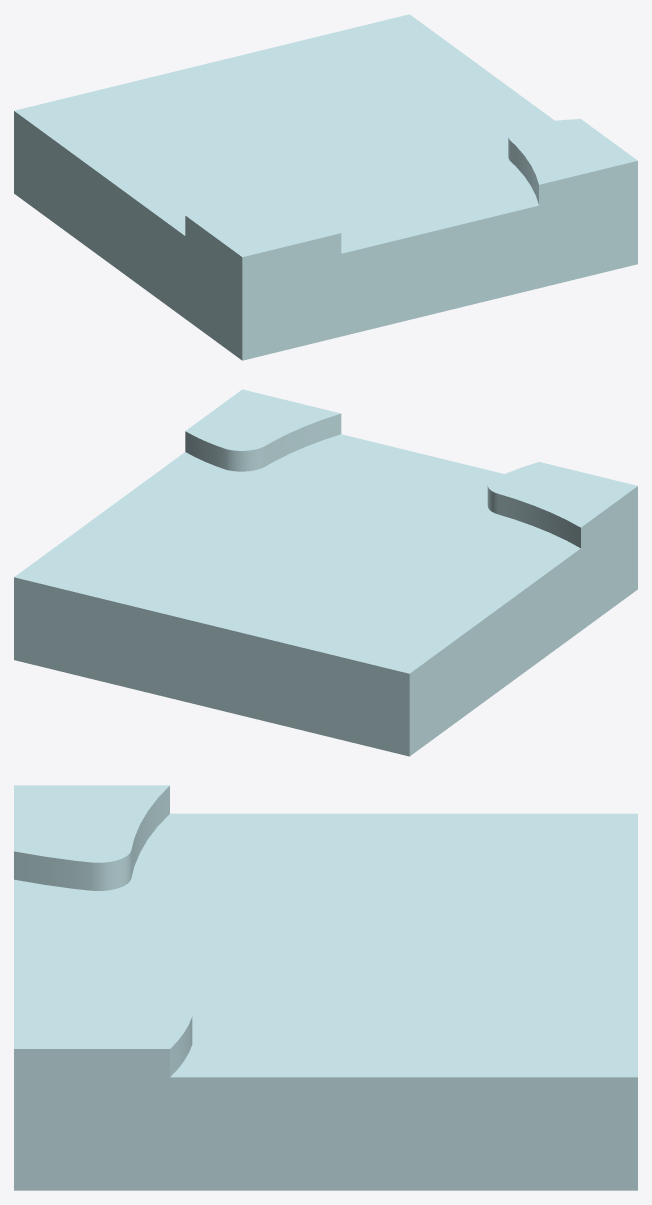
Rendered from ground_dirtRiverEntrance.fbx.
The picture shows the model from 3 angles, top to bottom: view 1: azimuth 30°, elevation 25°; view 2: azimuth 150°, elevation 25°; view 3: azimuth 270°, elevation 25°; orthographic projection. The views are drawn at different scales.
Visible parts, largest first — view 1: ground_dirtRiverEntrance; view 2: ground_dirtRiverEntrance; view 3: ground_dirtRiverEntrance.
Part boxes in pixels (box(x1,y1,x2,y2)): ground_dirtRiverEntrance: box(14, 14, 637, 360); ground_dirtRiverEntrance: box(14, 389, 637, 756); ground_dirtRiverEntrance: box(14, 785, 637, 1190).
Bounding box in the file's own units: 300 × 75 × 300.
